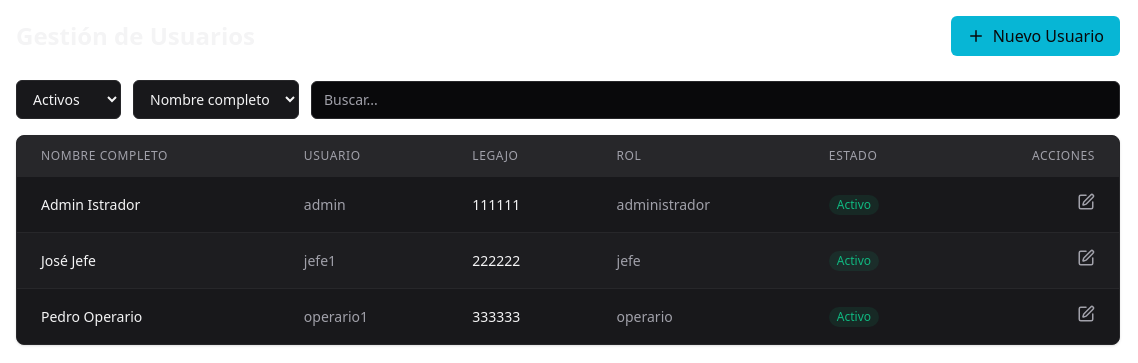
Test: UsuariosPage › typing search text filters activos by nombreApellido; clearing restores full list
This screenshot has width=1138, height=363.
Expected: the text "Admin Istrador" is shown, [17,176,280,232]
Step 1. Type "pedro" into the field with placeholder "Buscar..." → (716, 100), box [311,80,1120,118]
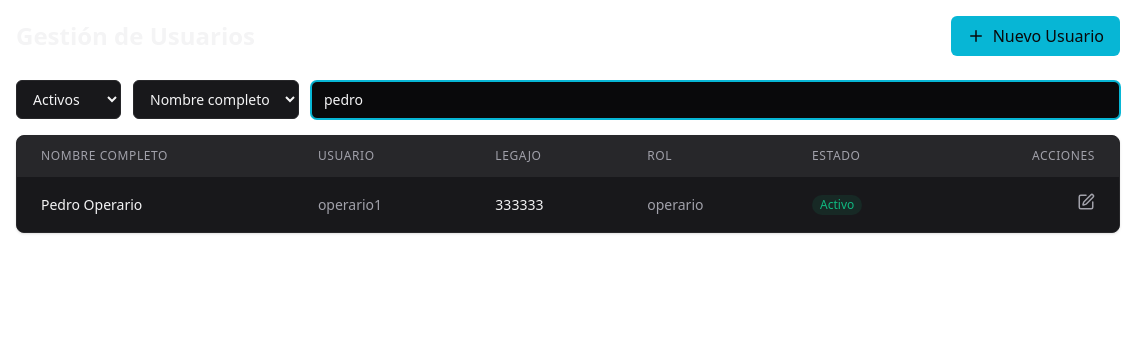
Expected: the text "Pedro Operario" is shown, [17,176,294,232]
Expected: the text "Admin Istrador" is gone
Expected: the text "José Jefe" is gone
Step 2. Clear the field with placeholder "Buscar..." → (716, 100), box [311,80,1120,118]
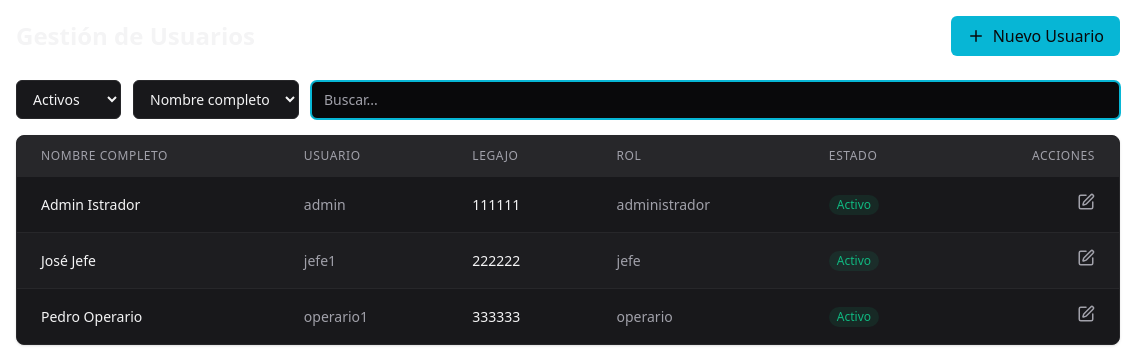
Expected: the text "Pedro Operario" is shown, [17,288,280,344]
Expected: the text "Admin Istrador" is shown, [17,176,280,232]
Expected: the text "José Jefe" is shown, [17,232,280,288]
